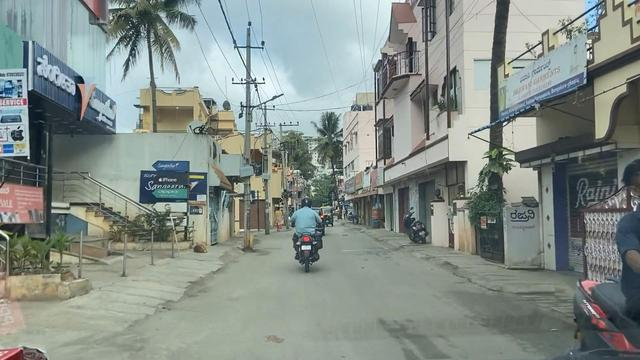LMV: (296, 199, 321, 273)
